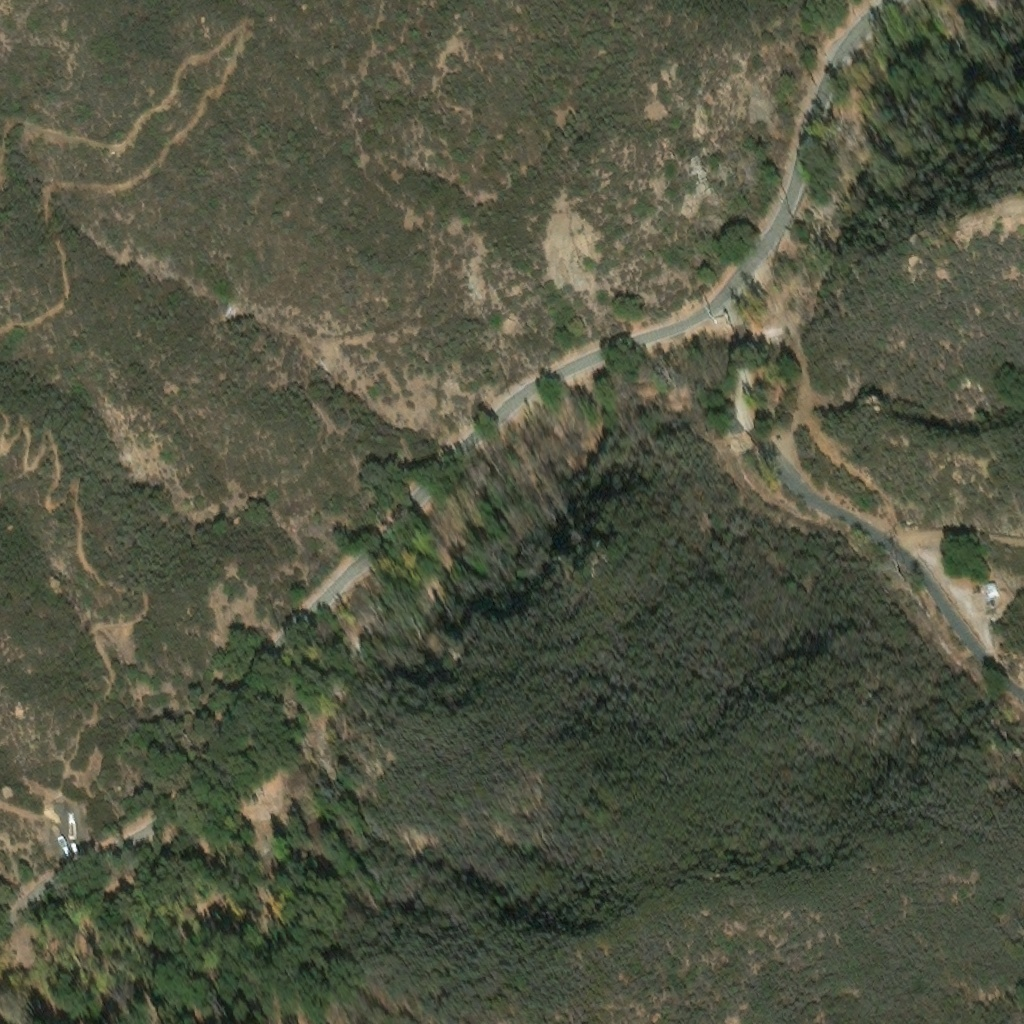0 no-damage: (981, 575, 993, 586), (983, 583, 995, 592)
